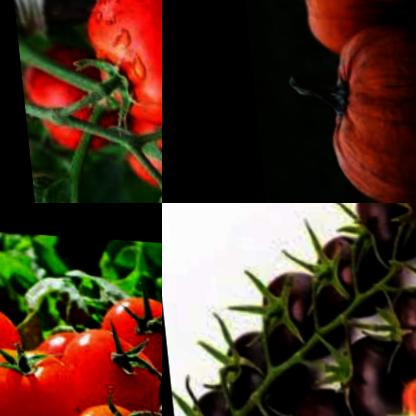pumpkin: (306, 10, 416, 203), (285, 0, 384, 63)
tomato: (73, 0, 162, 129), (14, 39, 113, 152), (36, 320, 156, 408), (244, 253, 330, 363), (203, 316, 290, 416), (308, 333, 409, 416), (303, 223, 382, 311), (0, 326, 76, 416), (91, 283, 162, 364), (362, 270, 416, 369), (165, 365, 255, 416), (344, 203, 416, 266), (268, 382, 371, 416), (51, 392, 162, 416), (378, 365, 416, 416), (0, 290, 20, 363)
